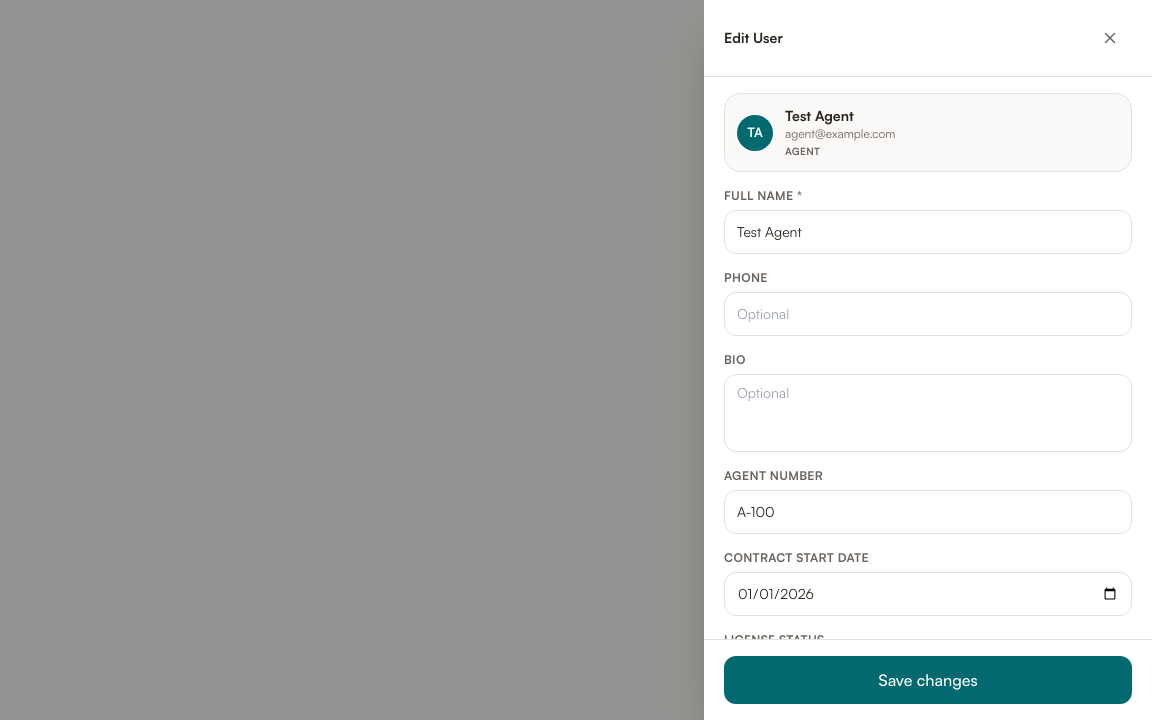
it: EditUserDrawer › blocks save when name is empty
This screenshot has width=1152, height=720.
Clear the field labelled "Full Name *". click: coordinates (928, 232)
box: top-left (724, 210), bottom-right (1132, 254)
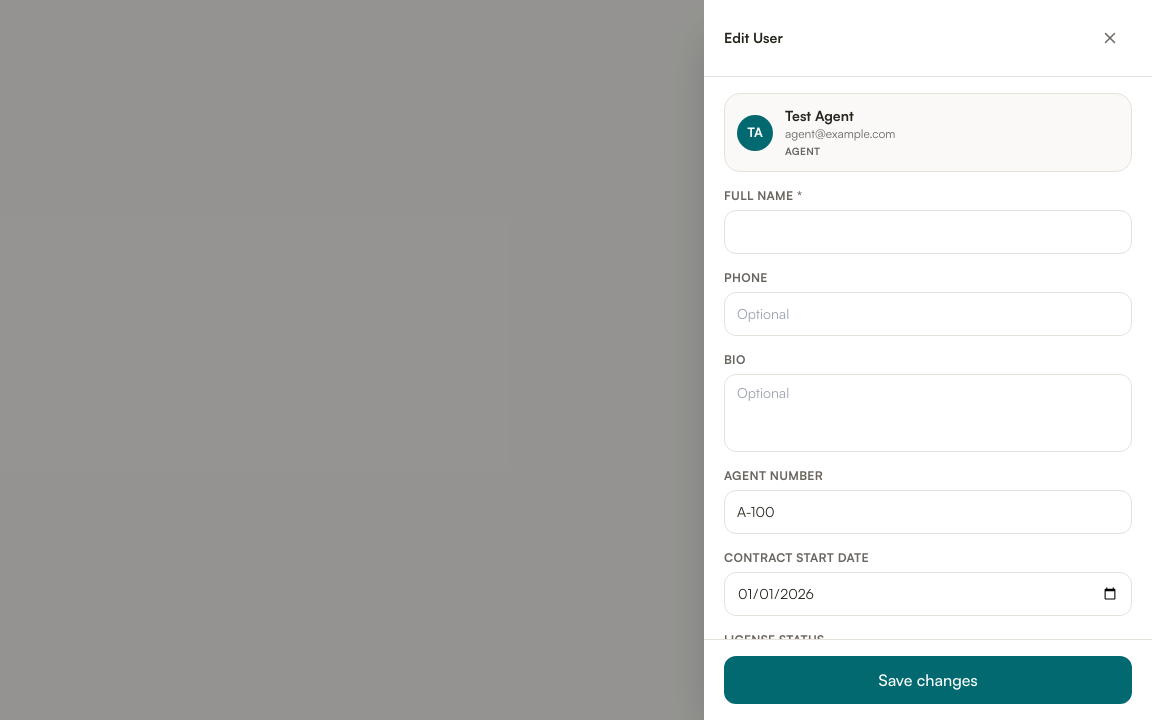
Click the button "Save changes". click: coordinates (928, 680)
box: top-left (724, 656), bottom-right (1132, 704)
(page scrolled)
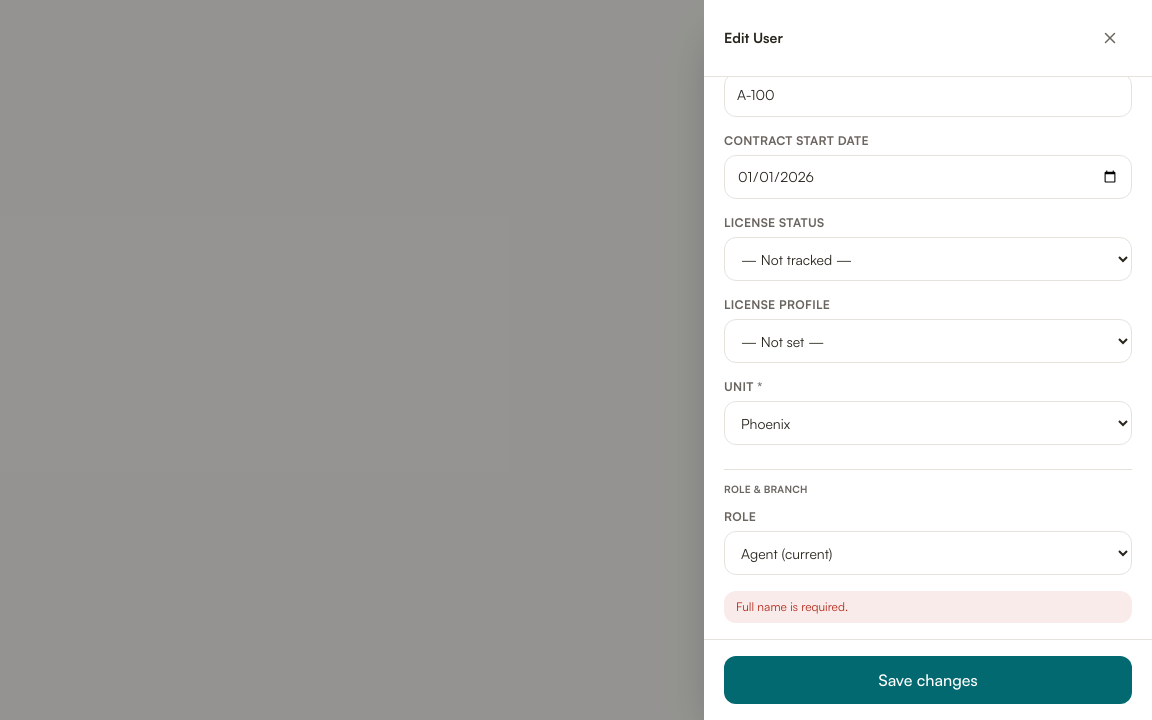
Expected: the text "Full name is required." is shown, top-left (724, 591), bottom-right (1132, 623)
